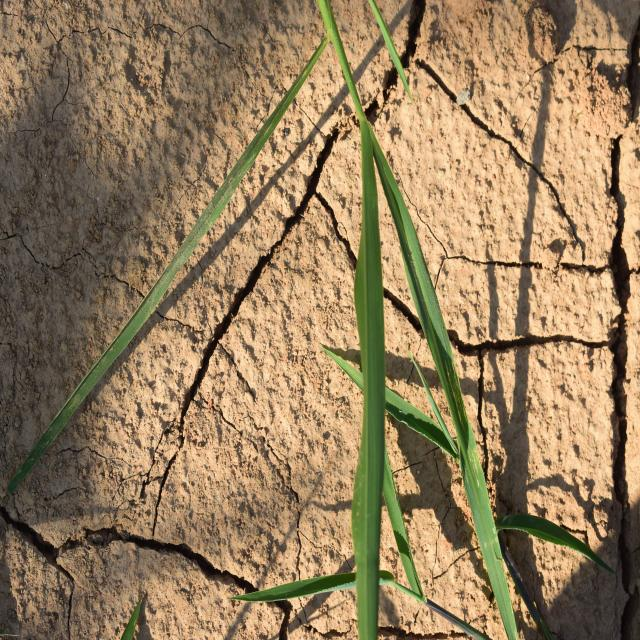green_foxtail: (323, 103, 520, 610)
